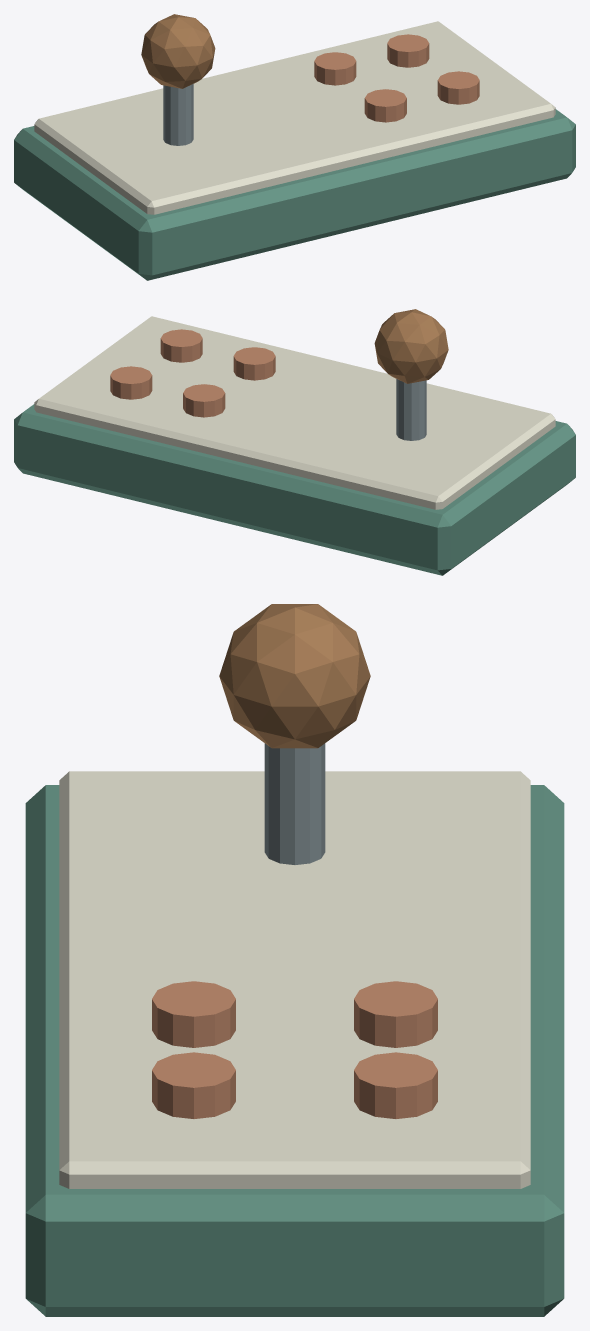
The picture shows the model from 3 angles, top to bottom: view 1: azimuth 30°, elevation 25°; view 2: azimuth 150°, elevation 25°; view 3: azimuth 270°, elevation 25°; orthographic projection. The views are drawn at different scales.
Parts seen in each view (by area): view 1: arcade-control-deck-01; view 2: arcade-control-deck-01; view 3: arcade-control-deck-01.
Boxes of the visible parts, box(x1,y1,x2,y2) form: arcade-control-deck-01: box(14, 14, 575, 280); arcade-control-deck-01: box(14, 309, 575, 575); arcade-control-deck-01: box(25, 604, 564, 1316).
Size of the model in its own units: 0.6 by 0.256 by 0.32.
